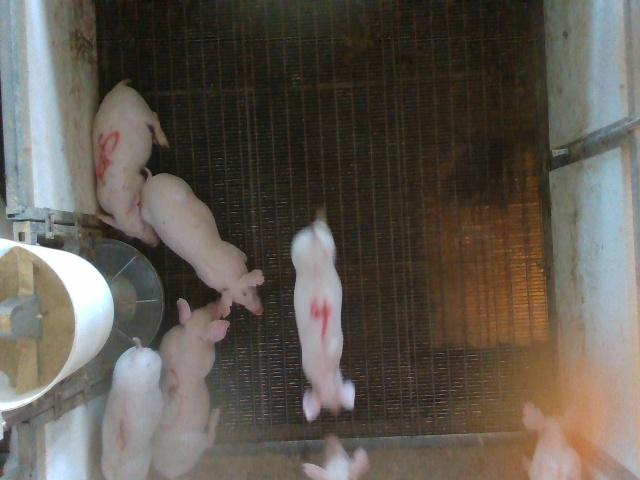pig-1: (102, 349, 162, 479)
pig-3: (152, 299, 229, 478)
pig-4: (291, 219, 355, 421)
pig-5: (94, 80, 169, 246)
